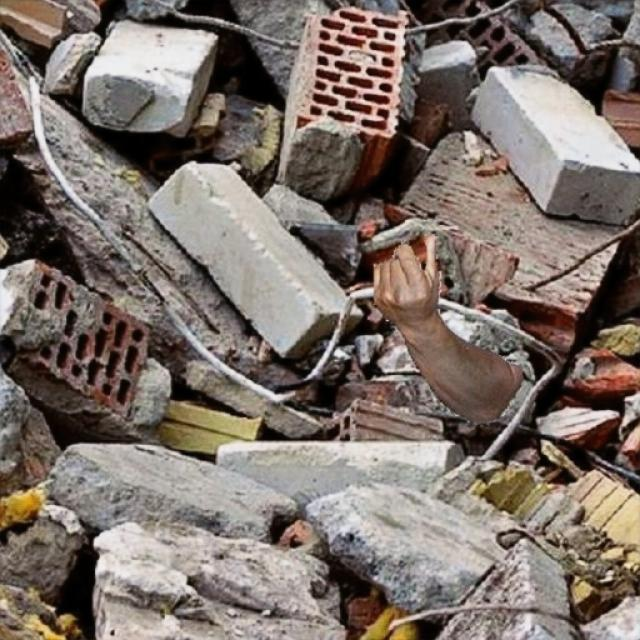Person in Rubble: (374, 232, 522, 426)
